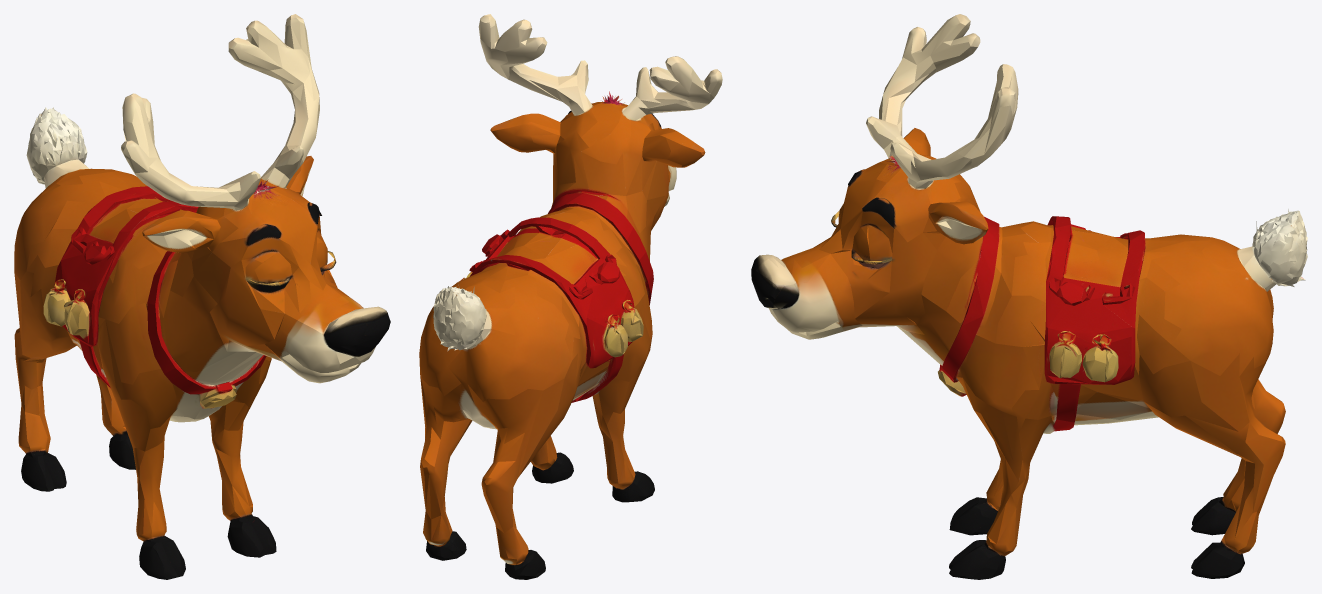
3 views of the same model, side by side, from view 1: azimuth 30°, elevation 25°; view 2: azimuth 150°, elevation 25°; view 3: azimuth 270°, elevation 25° (orthographic). The views are drawn at different scales.
Parts seen in each view (by area): view 1: output_unwrapped; view 2: output_unwrapped; view 3: output_unwrapped.
Part boxes in pixels (left/top/right/bottom): output_unwrapped: left=14, top=14, right=390, bottom=579; output_unwrapped: left=419, top=14, right=722, bottom=579; output_unwrapped: left=751, top=14, right=1307, bottom=579.
Size of the model in its own units: 0.8771 by 1.9 by 1.86.
Materials: 1 (1 with a texture image).
